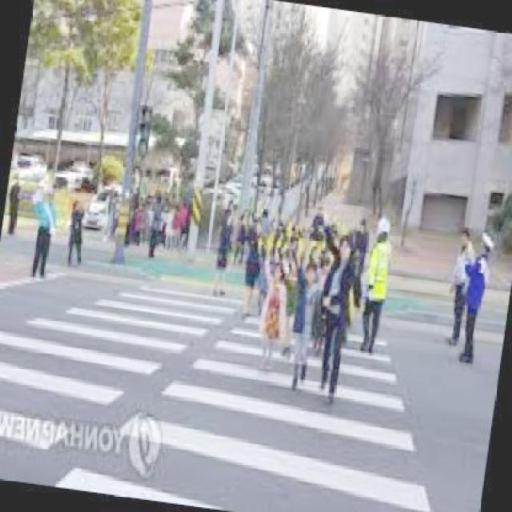pessoa: (313, 233, 363, 402), (283, 258, 329, 395), (355, 210, 397, 357), (458, 230, 495, 367), (253, 256, 294, 366), (441, 226, 476, 352), (204, 206, 238, 304), (25, 187, 59, 283), (67, 197, 89, 269)
